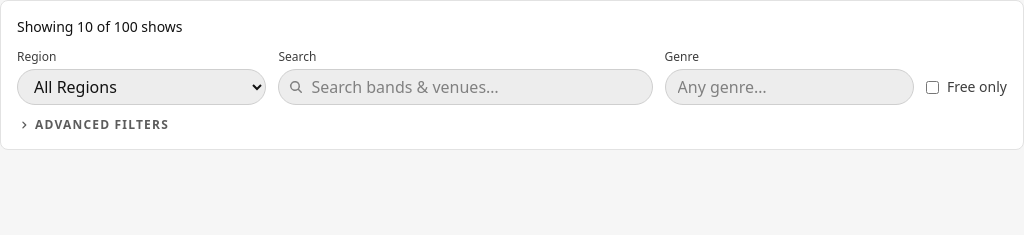
Scenario: FilterBar Advanced filters toggle › says whether Advanced filters are open, and which controls it opens
Click the button "Advanced filters". click: click(93, 125)
box: [17,117,169,133]
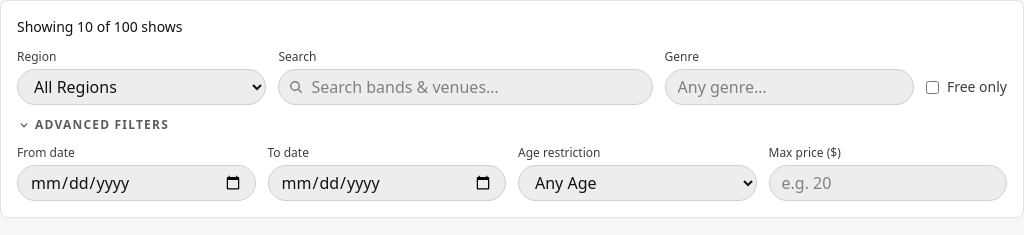
Expected: the button "Advanced filters" is expanded, [17,117,169,133]
